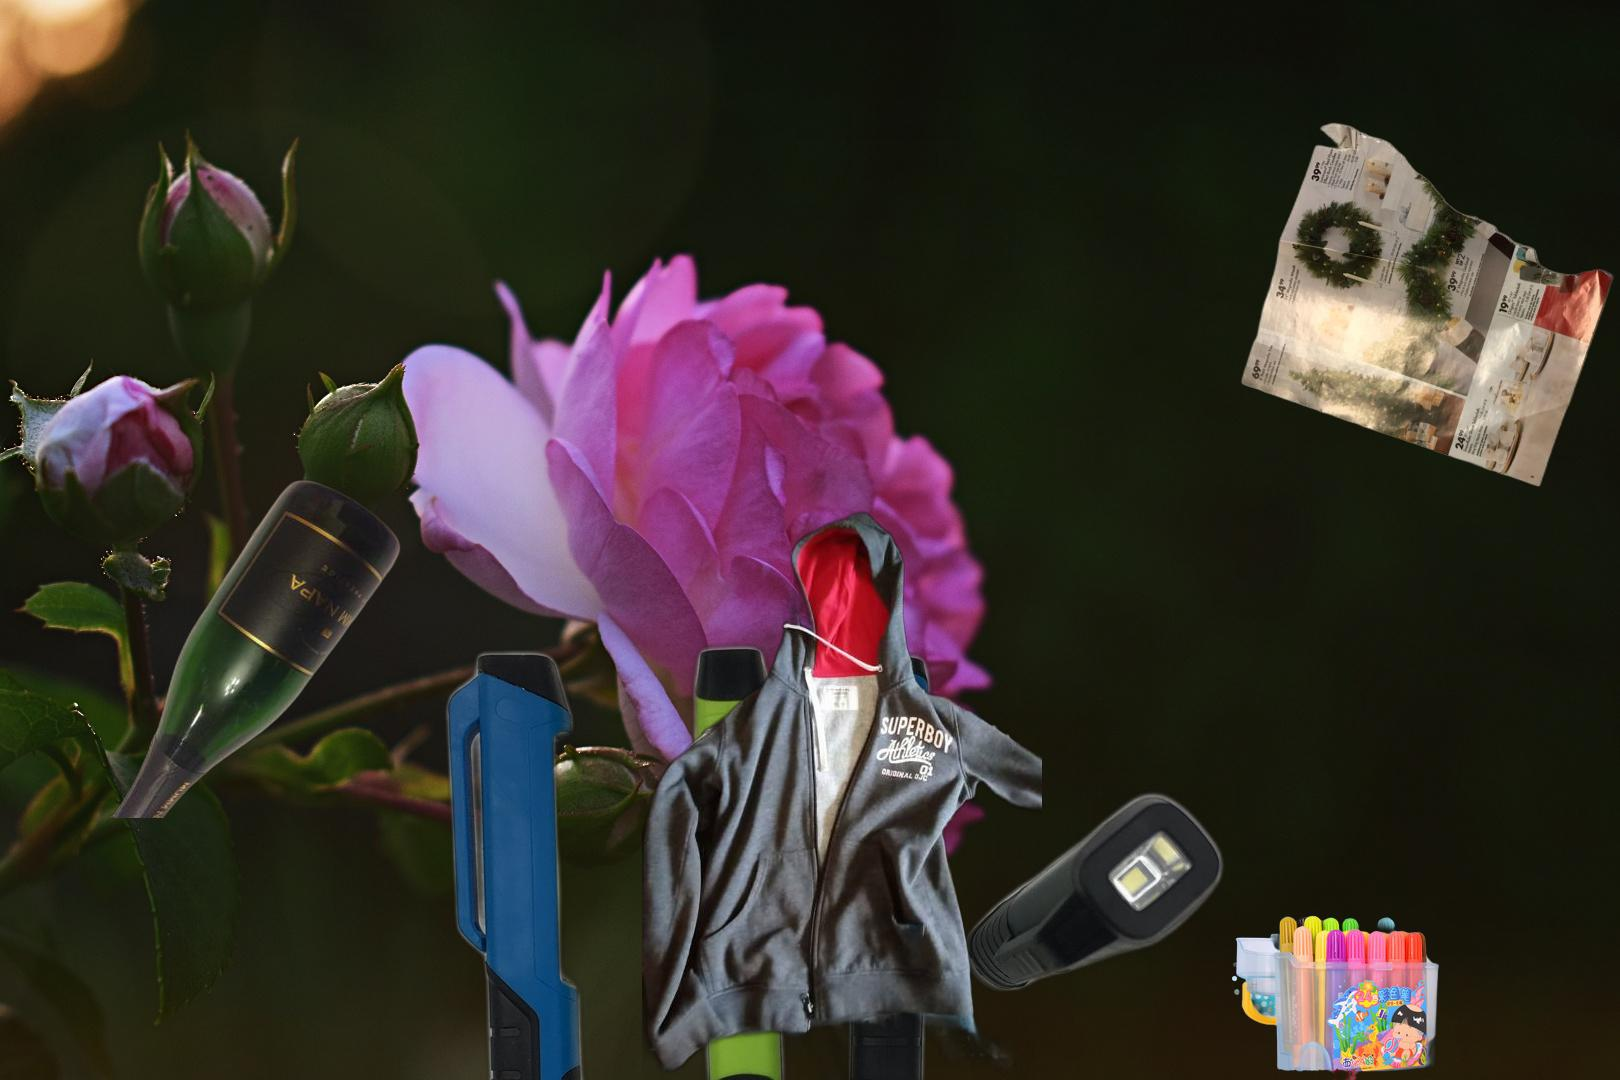clothes: (642, 506, 1041, 1080)
glass: (106, 477, 404, 818)
paper: (1237, 119, 1618, 491)
paper-bag: (708, 711, 811, 849)
penholder: (436, 634, 1234, 1080), (1229, 912, 1442, 1080)
